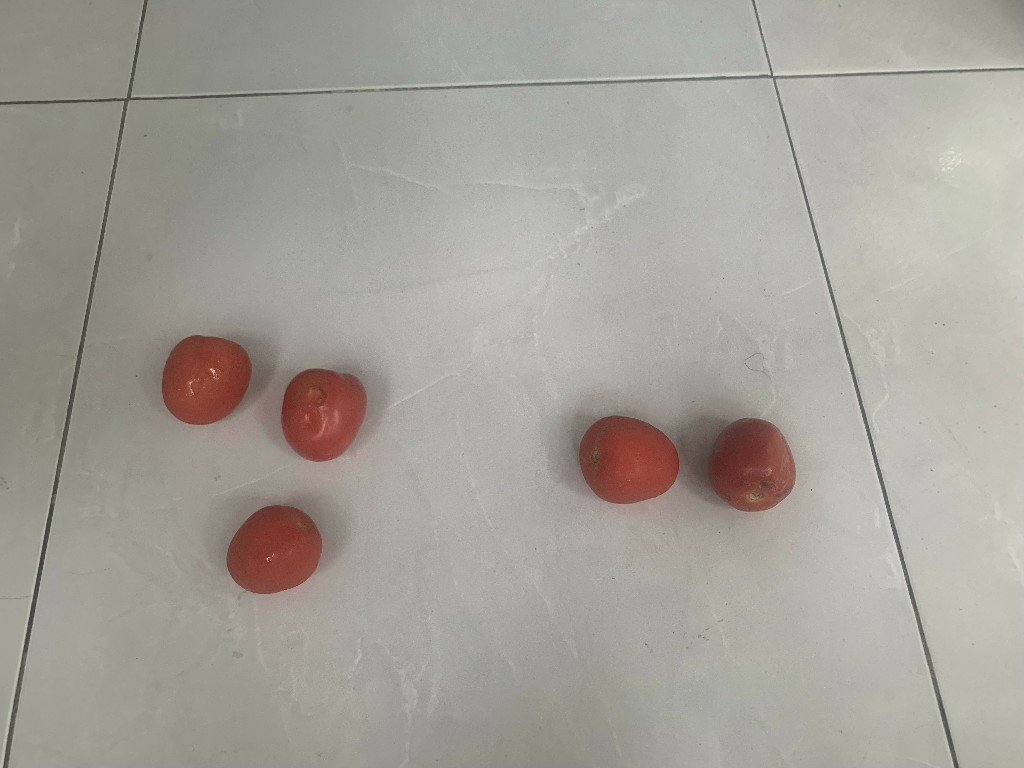NG: (278, 359, 378, 468), (710, 406, 801, 520)
OK: (551, 408, 683, 511), (146, 325, 259, 430), (214, 502, 337, 598)
